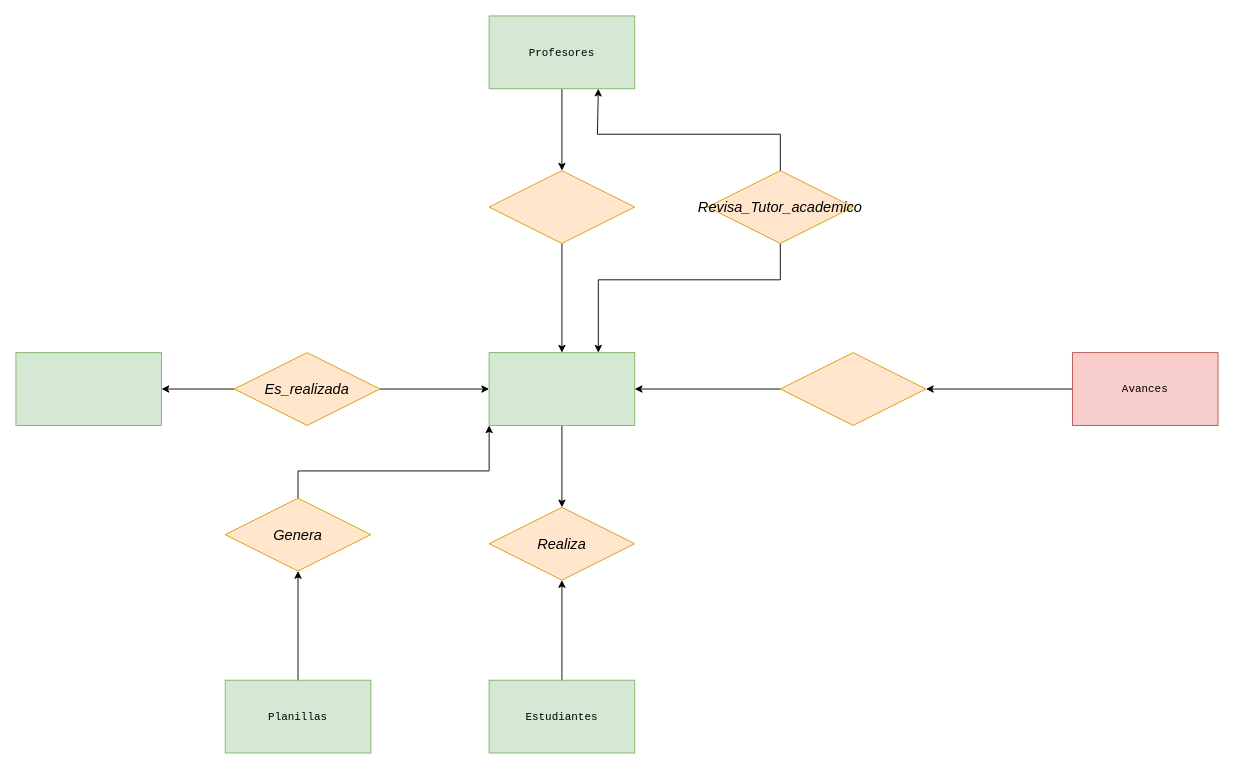
Image size: 1234x769. Some labels were removed from this diagram. Here are the shapes that lost their labels. From the top down, the centre of each, then its label:
(x=561, y=206): Revisa_Coordinador
(x=88, y=388): Empresa
(x=561, y=388): Pasantía
(x=852, y=388): Contiene
